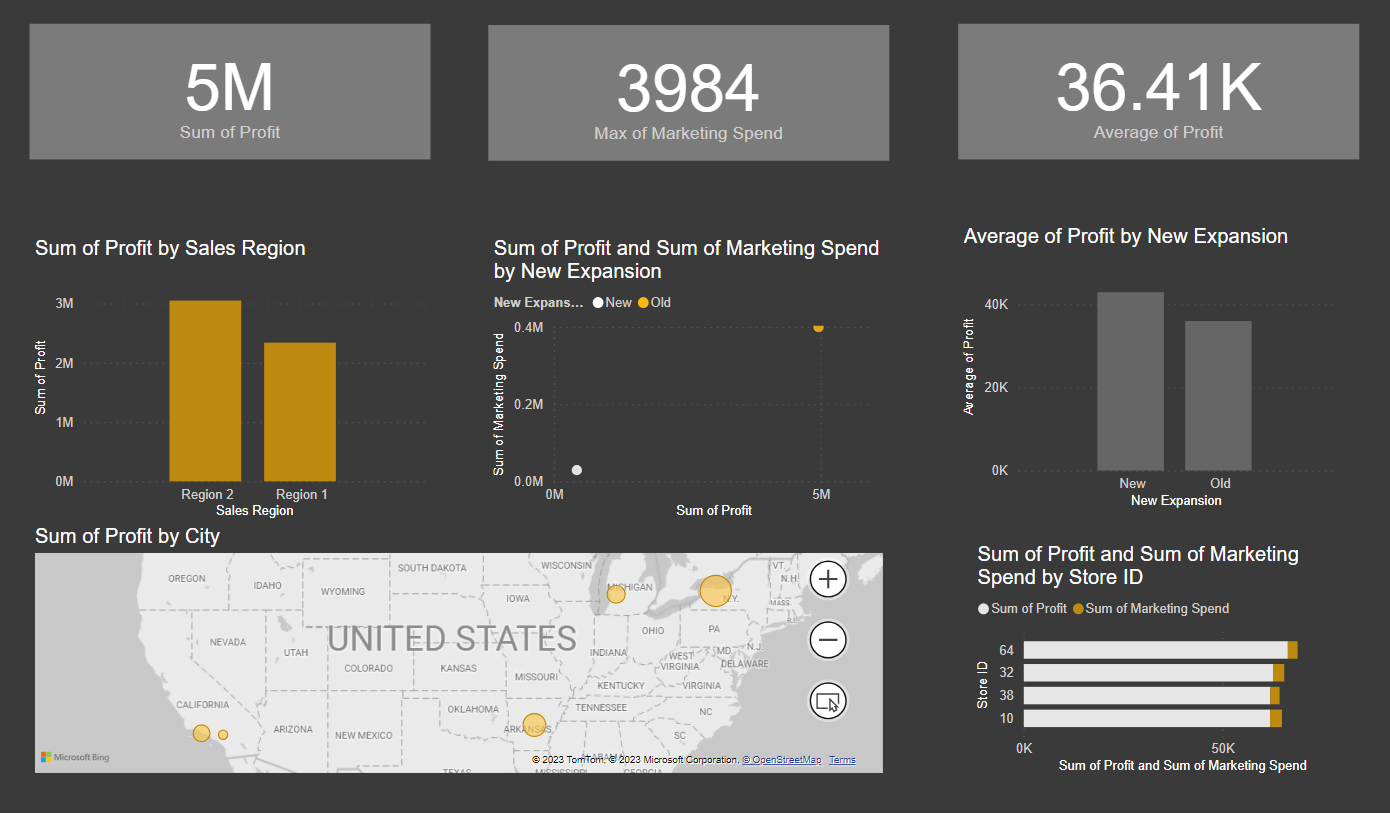

This screenshot's page, from the dashboard's own definition file:
{"tool":"powerbi","page":{"name":"PROFIT ","canvas":[1280,720],"ordinal":2},"visuals":[{"type":"card","fields":{"Values":["Avg(startup-expansion-modified.Profit)"]},"box":[870,13.1,368.9,125],"z":0},{"type":"card","fields":{"Values":["Max(startup-expansion-modified.Marketing Spend)"]},"box":[438,14.3,368.9,125],"z":1000},{"type":"card","fields":{"Values":["Sum(startup-expansion-modified.Profit)"]},"box":[16.7,13.1,368.9,125],"z":2000},{"type":"lineStackedColumnComboChart","fields":{"Category":["startup-expansion-modified.Sales Region"],"Y":["Sum(startup-expansion-modified.Profit)"]},"box":[16.7,208.3,368.9,264.2],"z":3000},{"type":"scatterChart","fields":{"X":["Sum(startup-expansion-modified.Profit)"],"Y":["Sum(startup-expansion-modified.Marketing Spend)"],"Series":["startup-expansion-modified.New Expansion"]},"box":[438,208.3,368.9,264.2],"z":4000},{"type":"lineStackedColumnComboChart","fields":{"Y":["Avg(startup-expansion-modified.Profit)"],"Category":["startup-expansion-modified.New Expansion"]},"box":[870.6,197.4,351,264.6],"z":5000},{"type":"map","fields":{"Category":["startup-expansion-modified.City"],"Size":["Sum(startup-expansion-modified.Profit)"]},"box":[16.5,473,789.7,233.1],"z":6000},{"type":"barChart","fields":{"Category":["startup-expansion-modified.Store ID"],"Y":["Sum(startup-expansion-modified.Profit)","Sum(startup-expansion-modified.Marketing Spend)"]},"box":[883,489.5,356.5,216.6],"z":7000}]}

Visuals, with their boxes on the page's 1280x720 design canvas (x1, y1, x2, y2). These are canvas units, not pixel positions in the 1390x813 screenshot, which may show the page scaled, cropped or inside an application window:
card - Avg(startup-expansion-modified.Profit): x1=870 y1=13 x2=1239 y2=138
card - Max(startup-expansion-modified.Marketing Spend): x1=438 y1=14 x2=807 y2=139
card - Sum(startup-expansion-modified.Profit): x1=17 y1=13 x2=386 y2=138
lineStackedColumnComboChart - startup-expansion-modified.Sales Region x Sum(startup-expansion-modified.Profit): x1=17 y1=208 x2=386 y2=472
scatterChart - Sum(startup-expansion-modified.Profit) x Sum(startup-expansion-modified.Marketing Spend): x1=438 y1=208 x2=807 y2=472
lineStackedColumnComboChart - Avg(startup-expansion-modified.Profit) x startup-expansion-modified.New Expansion: x1=871 y1=197 x2=1222 y2=462
map - startup-expansion-modified.City x Sum(startup-expansion-modified.Profit): x1=16 y1=473 x2=806 y2=706
barChart - startup-expansion-modified.Store ID x Sum(startup-expansion-modified.Profit): x1=883 y1=490 x2=1240 y2=706
